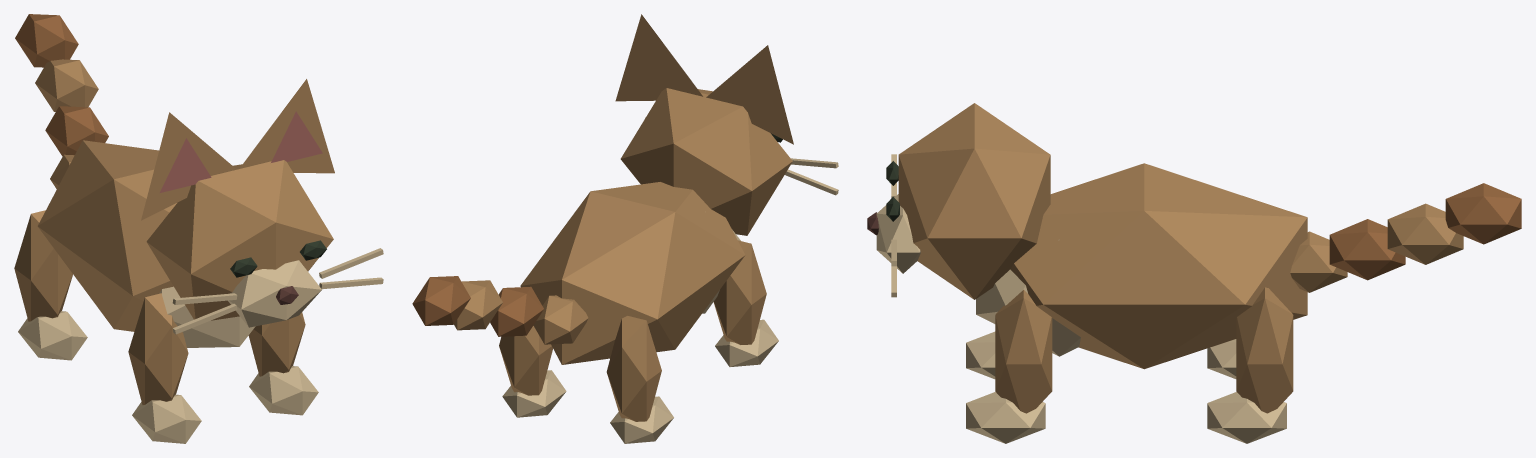
File: cat.glb
3 views of the same model, side by side, from view 1: azimuth 30°, elevation 25°; view 2: azimuth 150°, elevation 25°; view 3: azimuth 270°, elevation 25° (orthographic). The views are drawn at different scales.
Visible parts, largest first — view 1: cat-head-surface, cat-body-surface, cat-tail-surface, cat-leg--1-1-surface, cat-leg--1--1-surface, cat-leg-1-1-surface, cat-eye-right-surface, cat-eye-left-surface; view 2: cat-body-surface, cat-head-surface, cat-tail-surface, cat-leg--1--1-surface, cat-leg--1-1-surface, cat-leg-1--1-surface; view 3: cat-body-surface, cat-head-surface, cat-tail-surface, cat-leg-1--1-surface, cat-leg-1-1-surface, cat-leg--1-1-surface, cat-leg--1--1-surface.
Part boxes in pixels (x1,y1,x2,y2): cat-head-surface: [141, 79, 383, 334]; cat-body-surface: [37, 140, 255, 347]; cat-tail-surface: [15, 14, 108, 189]; cat-leg--1-1-surface: [128, 293, 201, 443]; cat-leg--1--1-surface: [14, 210, 87, 360]; cat-leg-1-1-surface: [248, 312, 318, 415]; cat-eye-right-surface: [300, 240, 326, 260]; cat-eye-left-surface: [230, 257, 257, 277]; cat-body-surface: [520, 182, 745, 364]; cat-head-surface: [615, 14, 838, 235]; cat-tail-surface: [412, 276, 588, 344]; cat-leg--1--1-surface: [606, 316, 673, 443]; cat-leg--1-1-surface: [713, 240, 778, 366]; cat-leg-1--1-surface: [499, 326, 566, 417]; cat-body-surface: [976, 163, 1307, 369]; cat-head-surface: [867, 103, 1050, 299]; cat-tail-surface: [1290, 183, 1521, 292]; cat-leg-1--1-surface: [1207, 287, 1293, 443]; cat-leg-1-1-surface: [966, 289, 1052, 443]; cat-leg--1-1-surface: [966, 331, 995, 379]; cat-leg--1--1-surface: [1207, 339, 1236, 378].
Size of the model in its own units: 0.5699 by 0.8815 by 1.47.
